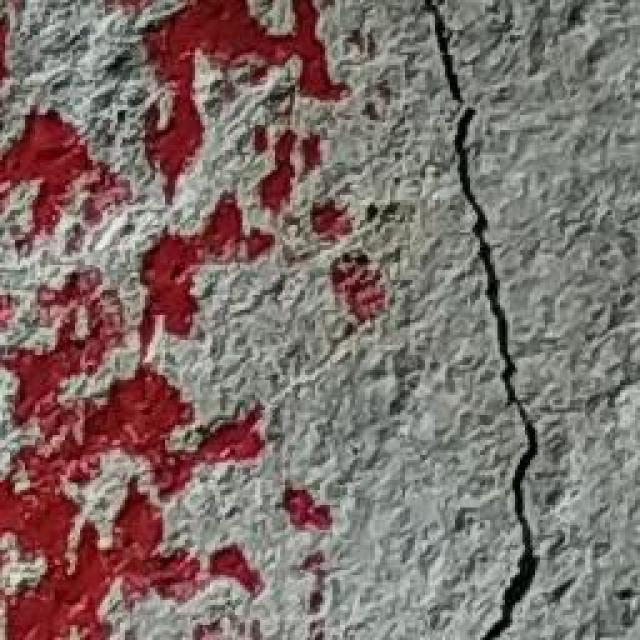Longitudinal: (415, 2, 568, 640)
Rippled: (0, 0, 404, 640)
